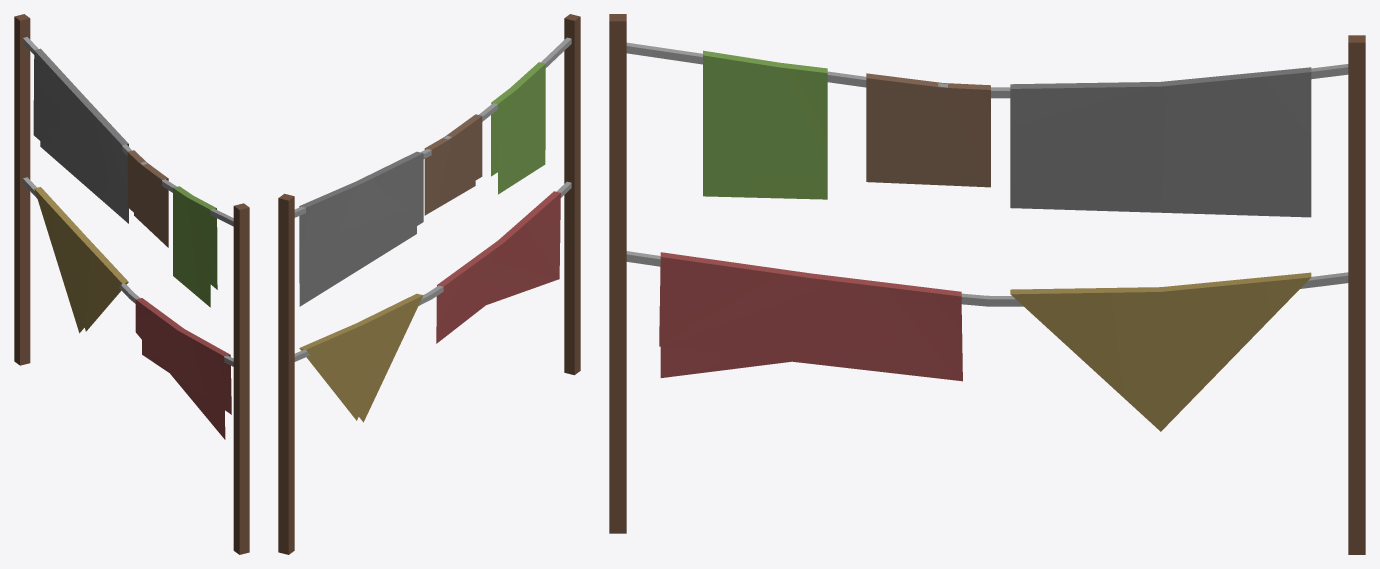
The model's file is outsideDryer_01.fbx.
3 views of the same model, side by side, from view 1: azimuth 30°, elevation 25°; view 2: azimuth 150°, elevation 25°; view 3: azimuth 270°, elevation 25° (orthographic). The views are drawn at different scales.
Visible parts, largest first — view 1: outsideDryer_01; view 2: outsideDryer_01; view 3: outsideDryer_01.
Part boxes in pixels (x1,y1,x2,y2): outsideDryer_01: (14,14,249,554); outsideDryer_01: (278,14,580,554); outsideDryer_01: (609,14,1365,554).
Size of the model in its own units: 45.04 by 376 by 503.
